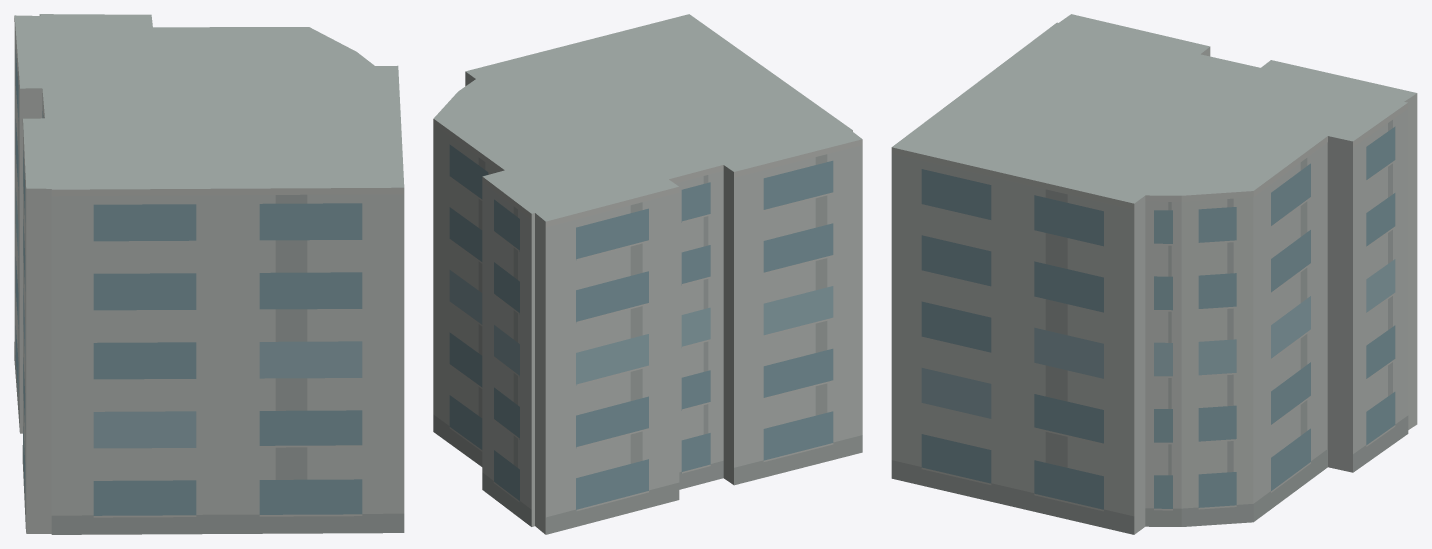
The model's file is survey-upis-32846933.glb.
The picture shows the model from 3 angles, left to right: view 1: azimuth 30°, elevation 25°; view 2: azimuth 150°, elevation 25°; view 3: azimuth 270°, elevation 25°; orthographic projection. The views are drawn at different scales.
Parts seen in each view (by area): view 1: survey-upis-32846933.tmp; view 2: survey-upis-32846933.tmp; view 3: survey-upis-32846933.tmp.
Boxes of the visible parts, x1=… form: survey-upis-32846933.tmp: x1=14, y1=14, x2=404, y2=534; survey-upis-32846933.tmp: x1=433, y1=14, x2=862, y2=534; survey-upis-32846933.tmp: x1=891, y1=14, x2=1417, y2=534.
Size of the model in its own units: 15.84 by 12.9 by 18.56.
